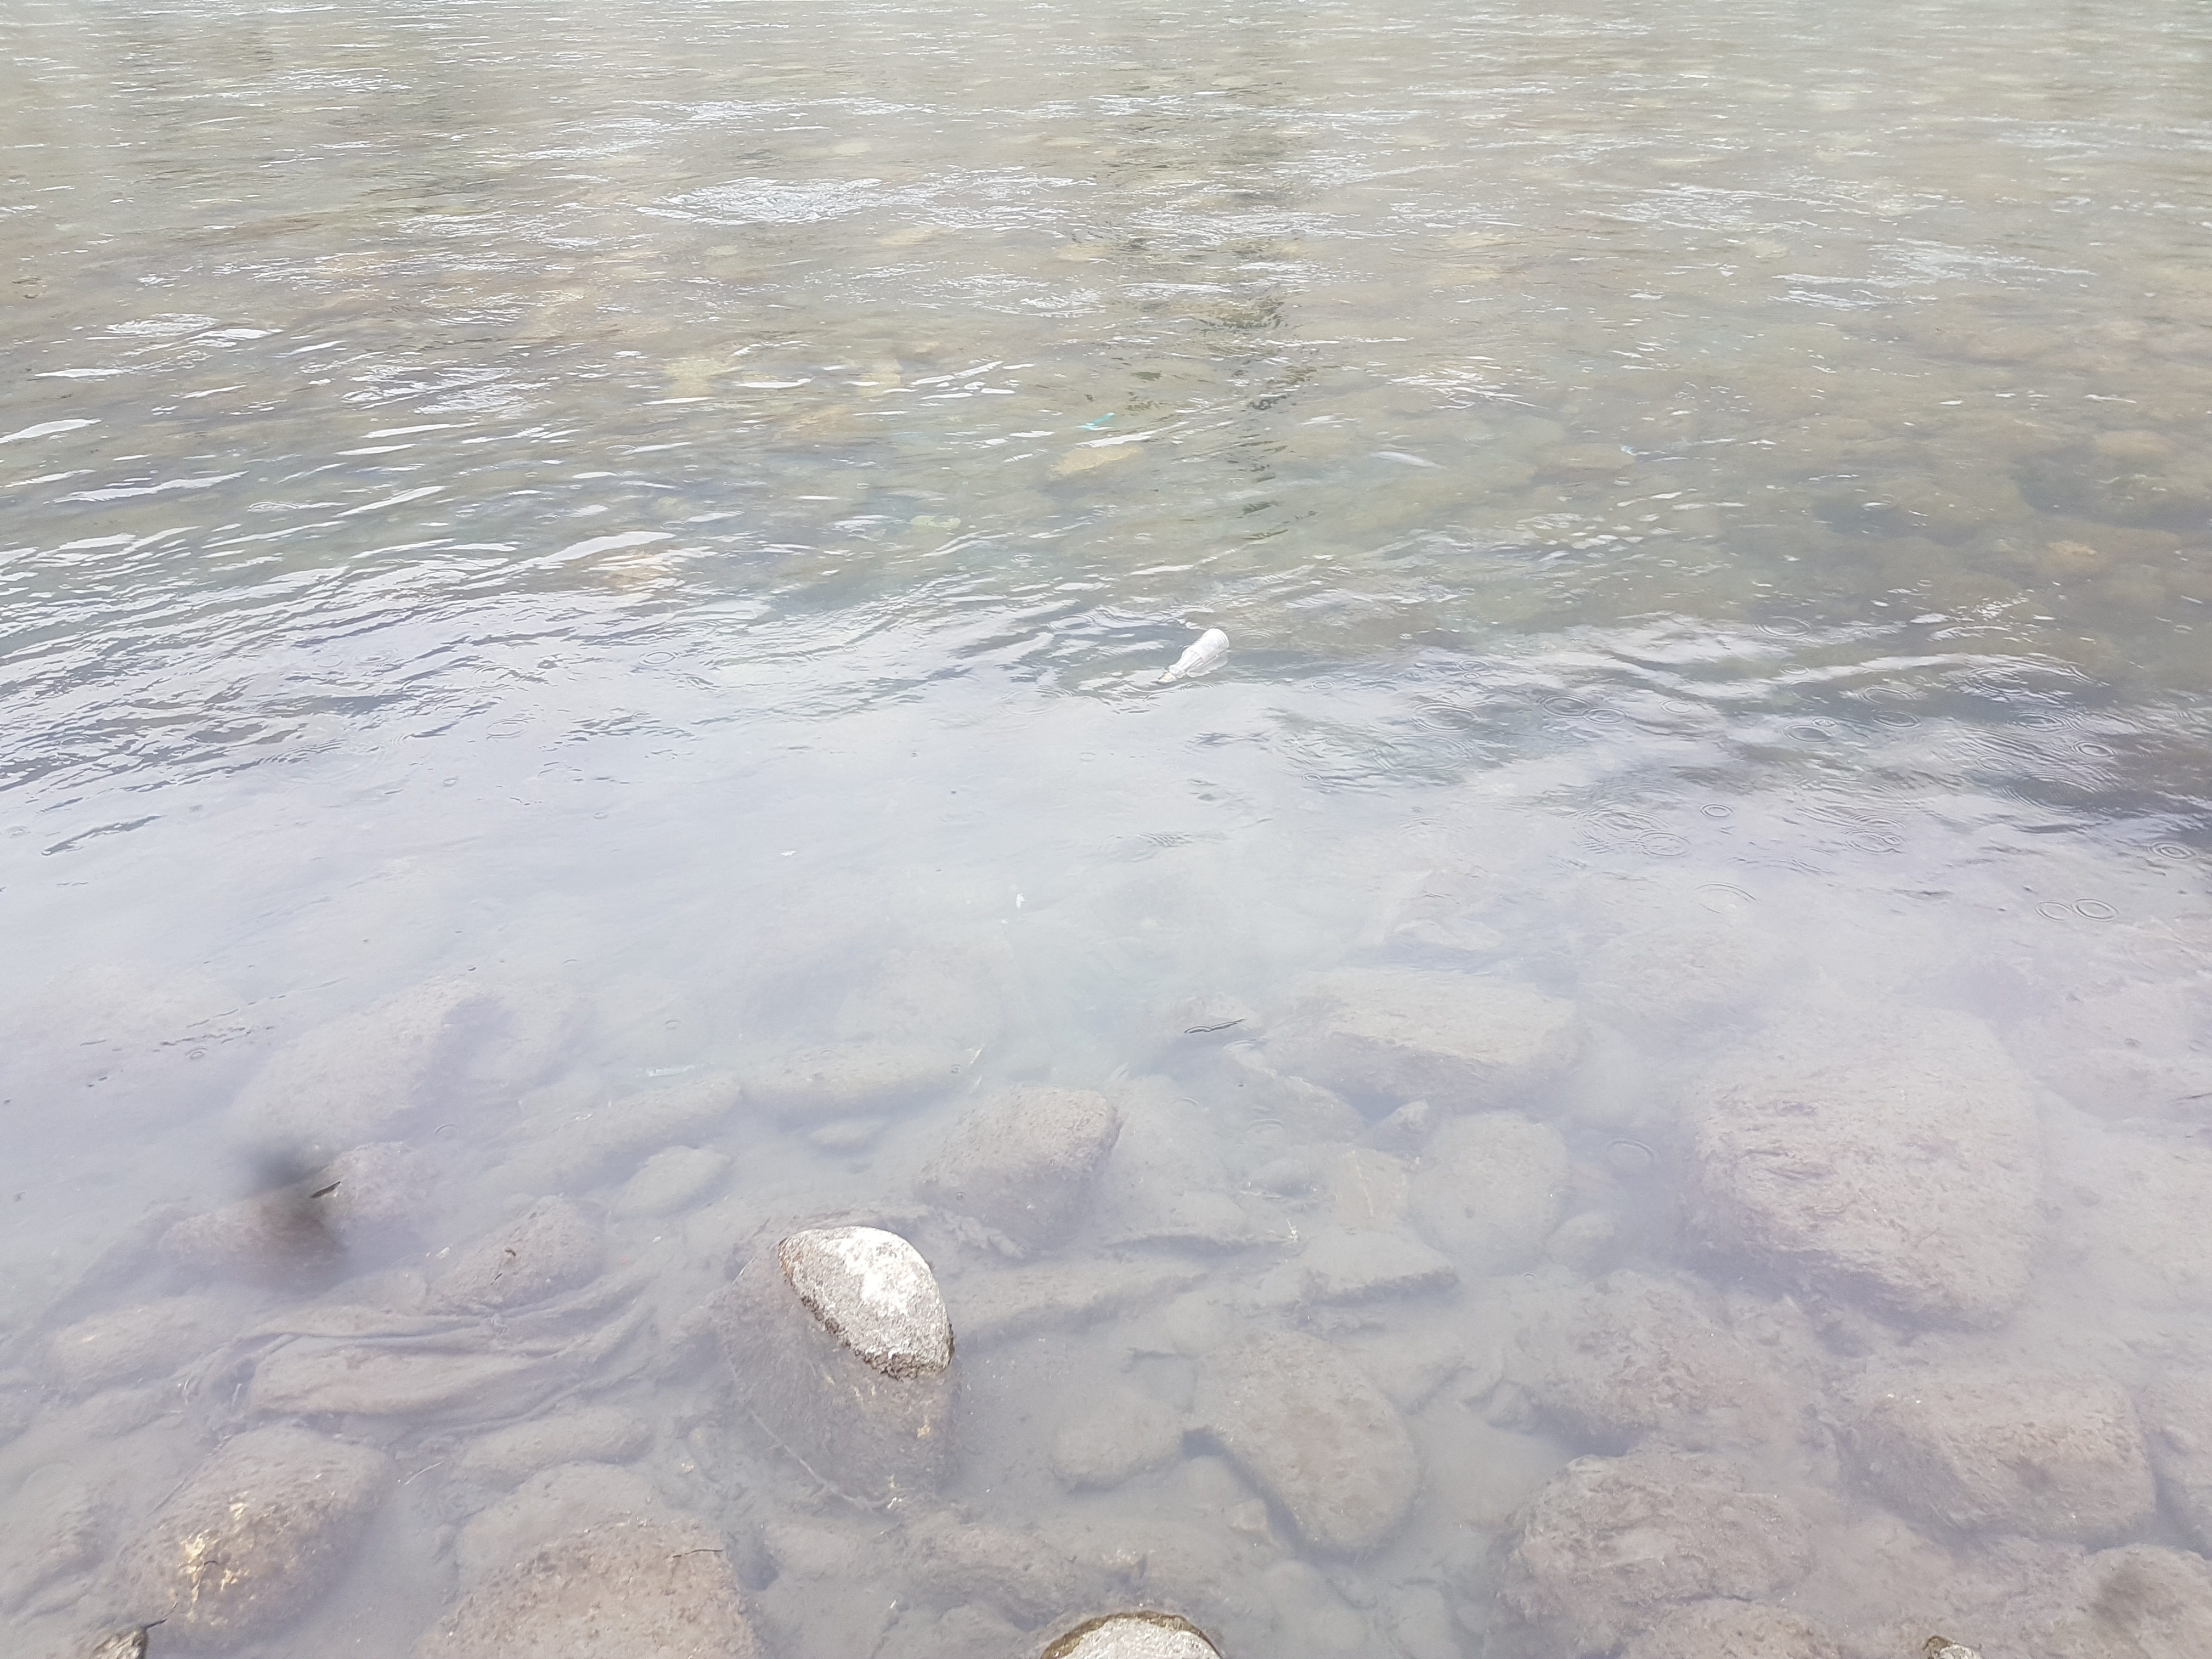Plastic Bottle: (1160, 627, 1230, 683)
